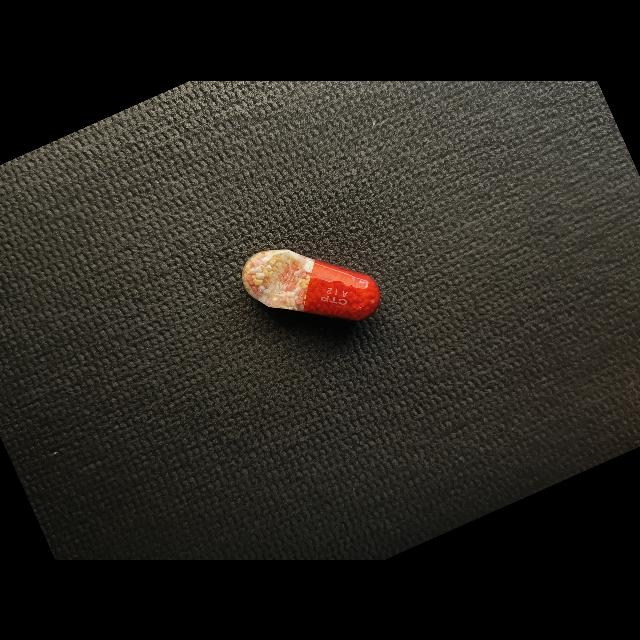Defective Capsule: (242, 249, 380, 319)
